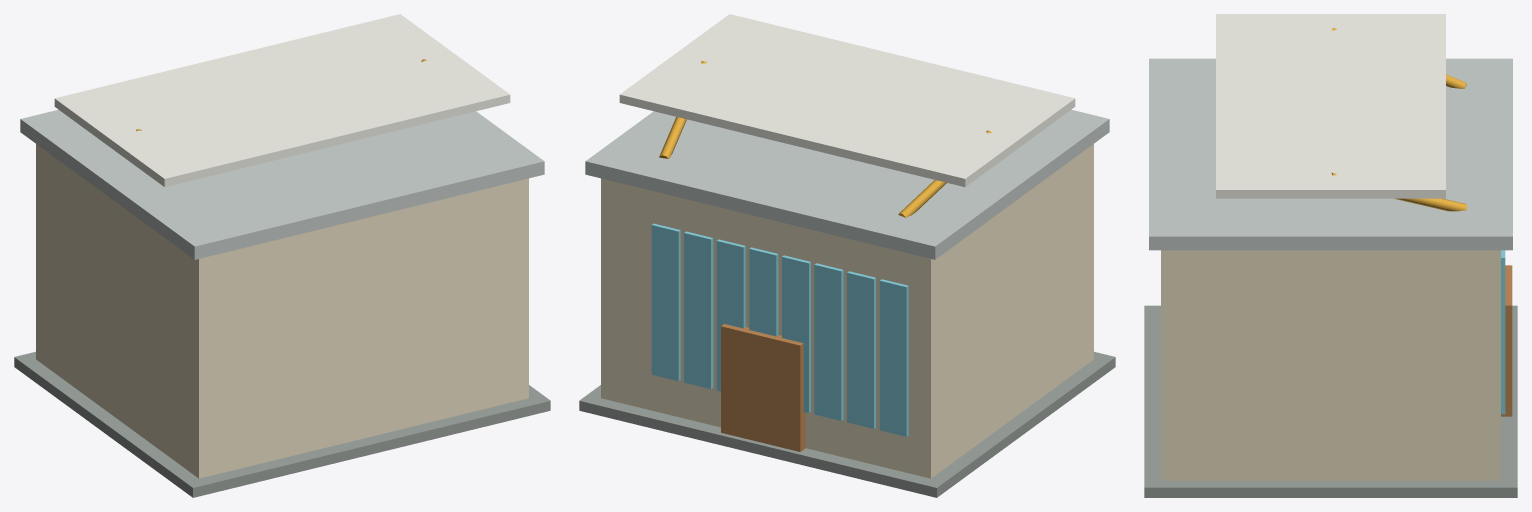
3 renders of one model, left to right at view 1: azimuth 30°, elevation 25°; view 2: azimuth 150°, elevation 25°; view 3: azimuth 270°, elevation 25°, orthographic. The views are drawn at different scales.
Visible parts, largest first — view 1: library, canopy, roof-slab, plaza; view 2: library, canopy, roof-slab, glass-facade (×8), plaza, entry, beam; view 3: library, canopy, roof-slab, plaza, entry, glass-facade, beam.
Part boxes in pixels (box(x1,y1,x2,y2)): library: box(36, 144, 528, 478); canopy: box(54, 14, 510, 186); roof-slab: box(20, 109, 544, 259); plaza: box(14, 351, 550, 497); library: box(601, 144, 1093, 478); canopy: box(619, 14, 1075, 186); roof-slab: box(585, 109, 1109, 259); glass-facade (×8): box(651, 223, 908, 436); plaza: box(579, 351, 1115, 497); entry: box(721, 324, 805, 451); beam: box(898, 130, 991, 217); library: box(1161, 250, 1500, 480); canopy: box(1216, 14, 1445, 198); roof-slab: box(1149, 58, 1512, 250); plaza: box(1144, 305, 1517, 497); entry: box(1501, 265, 1512, 416); glass-facade: box(1501, 250, 1505, 414); beam: box(1331, 173, 1466, 211).
Bounding box in the file's own units: 9 × 7.06 × 7.8.
